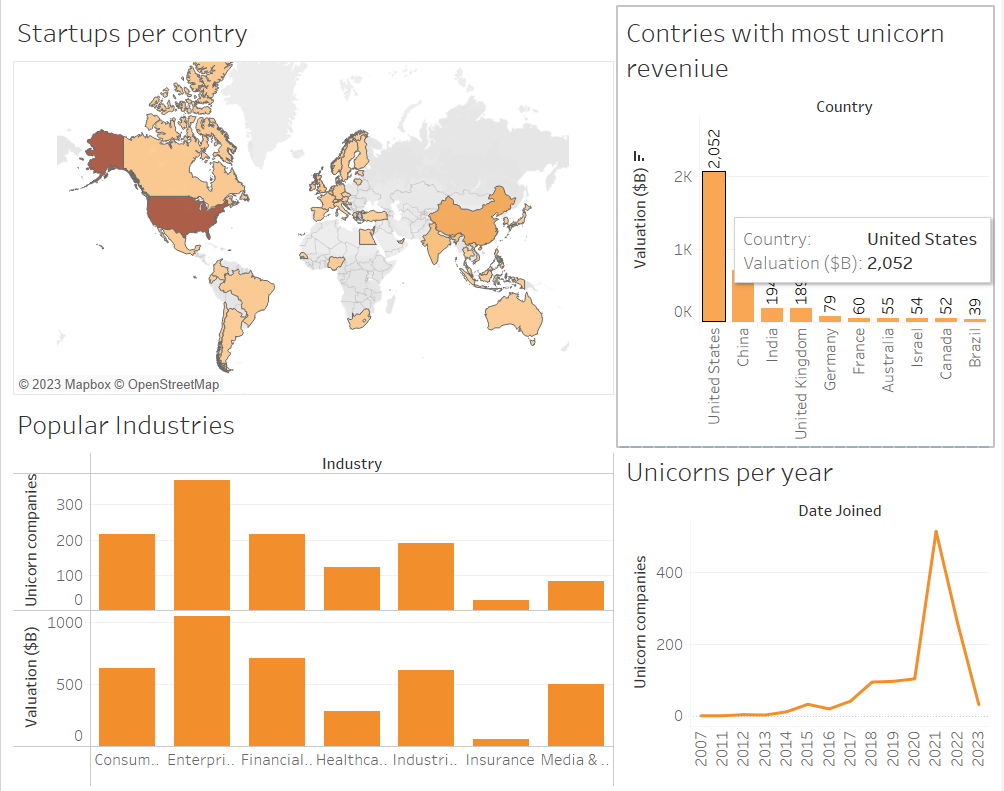

The page's visual inventory and layout, read from the dashboard file:
{"tool":"tableau","page":{"name":"Startups","canvas":[1000,800],"ordinal":0},"visuals":[{"type":"worksheet","title":"StartupPerContry","mark":"Automatic","box":[8,8,609,392]},{"type":"worksheet","title":"Sheet 2","mark":"Automatic","rows":["Valuation ($B)"],"cols":["Country"],"box":[617,8,375,439.5]},{"type":"worksheet","title":"Sheet 3","mark":"Automatic","rows":["unicorn_startup_companies.csv_BD34BA4083B04EF09F007EC156F334","Valuation ($B)"],"cols":["Industry"],"box":[8,400,609,392]},{"type":"worksheet","title":"Sheet 5","mark":"Line","rows":["unicorn_startup_companies.csv_BD34BA4083B04EF09F007EC156F334"],"cols":["Date Joined"],"box":[617,447.5,375,344.5]}]}

Visuals, with their boxes in screenshot pixels (x1, y1, x2, y2), scaled from the page's 1000x800 canvas onto the 1004x791 screenshot:
"StartupPerContry" worksheet: detection(8, 8, 619, 396)
"Sheet 2" worksheet: detection(619, 8, 996, 442)
"Sheet 3" worksheet: detection(8, 396, 619, 783)
"Sheet 5" worksheet (Line marks): detection(619, 442, 996, 783)
